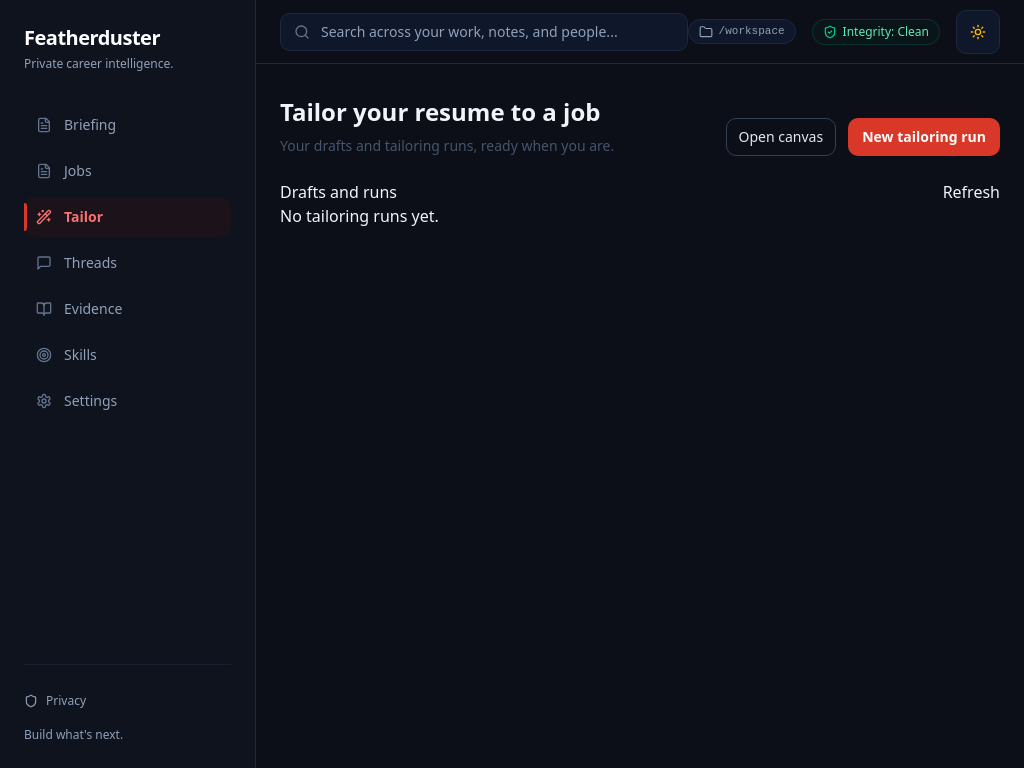
Scenario: allows setup with health-confirmed identity while the draft list is still pending
This screenshot has width=1024, height=768.
Step 1. Click the button "New tailoring run" → (924, 137), box [848,118,1000,156]
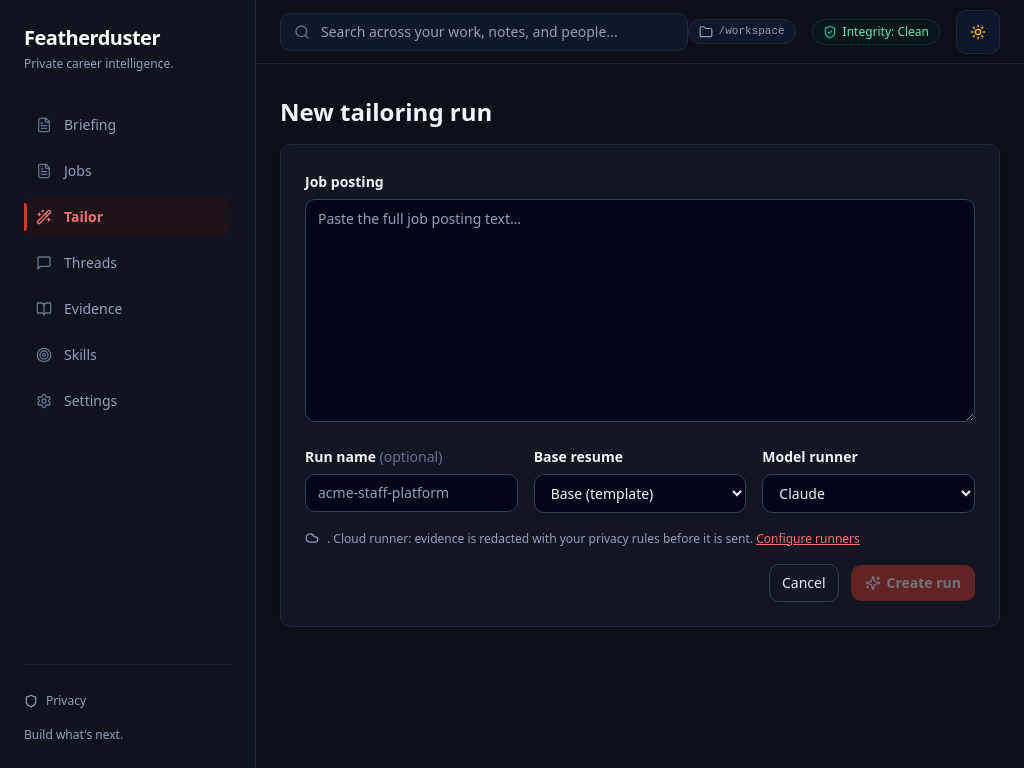
Check: the text box labelled "Job posting" is shown, box [305,199,975,422]
